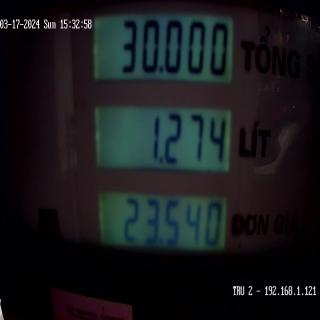screen: (90, 3, 239, 286)
